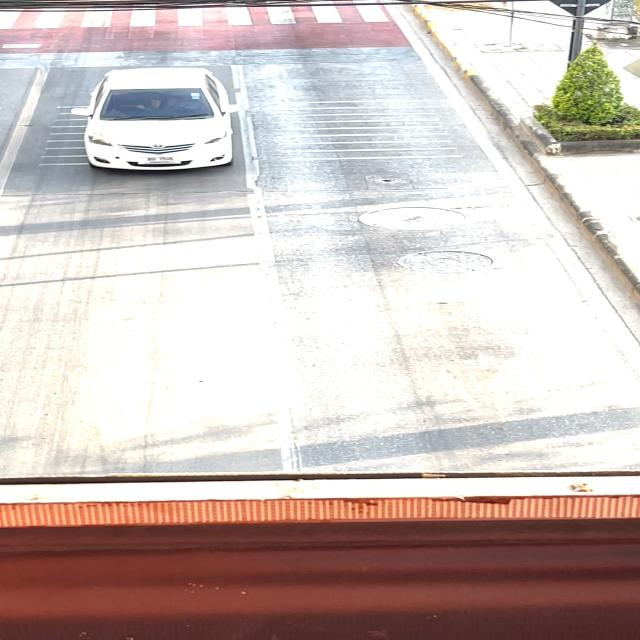car: (63, 55, 247, 187)
